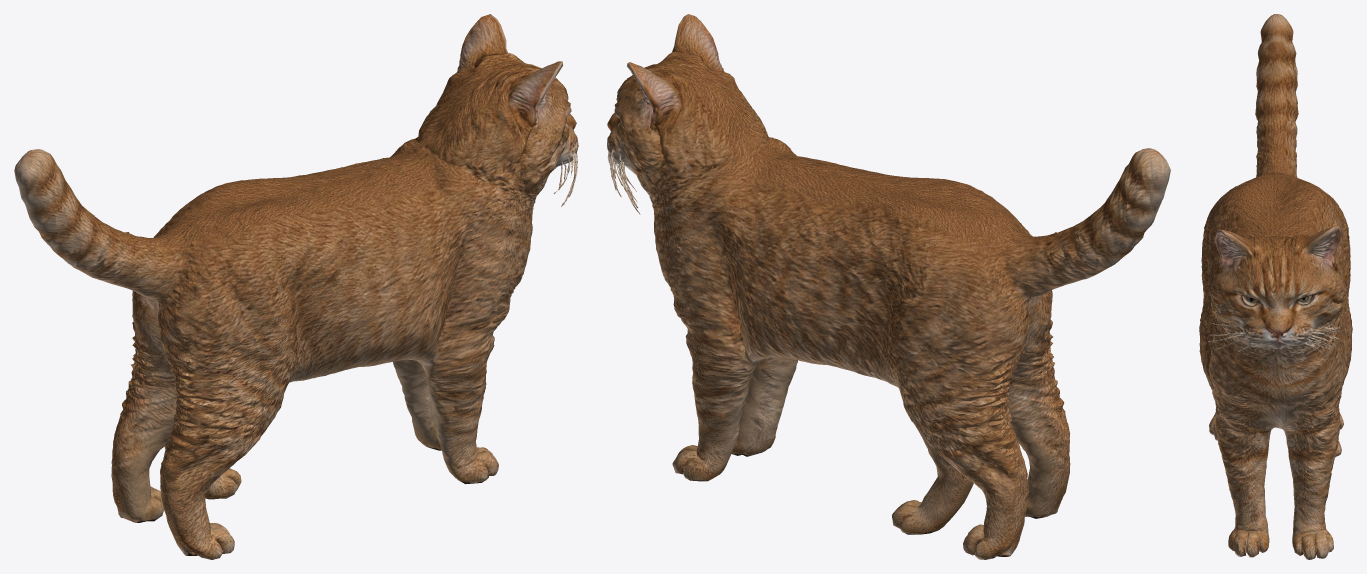
File: ULYSSESCAT.glb
3 views of the same model, side by side, from view 1: azimuth 30°, elevation 25°; view 2: azimuth 150°, elevation 25°; view 3: azimuth 270°, elevation 25° (orthographic). The views are drawn at different scales.
Visible parts, largest first — view 1: tripo_node_65c48883-fdd2-4f25-88ed-4498f503c4fd; view 2: tripo_node_65c48883-fdd2-4f25-88ed-4498f503c4fd; view 3: tripo_node_65c48883-fdd2-4f25-88ed-4498f503c4fd.
Part boxes in pixels (box(x1,y1,x2,y2)): tripo_node_65c48883-fdd2-4f25-88ed-4498f503c4fd: box(14, 14, 578, 559); tripo_node_65c48883-fdd2-4f25-88ed-4498f503c4fd: box(607, 14, 1170, 559); tripo_node_65c48883-fdd2-4f25-88ed-4498f503c4fd: box(1199, 14, 1352, 559).
Size of the model in its own units: 1.4 by 0.9998 by 0.3871.
1 material, 1 textured.
